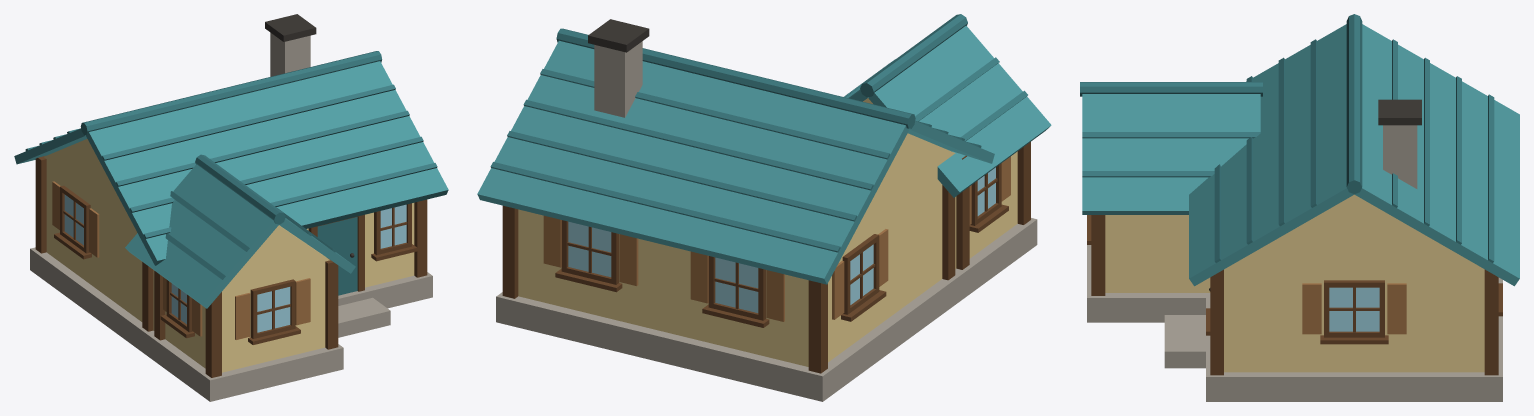
The model's file is house_2.glb.
3 views of the same model, side by side, from view 1: azimuth 30°, elevation 25°; view 2: azimuth 150°, elevation 25°; view 3: azimuth 270°, elevation 25° (orthographic). The views are drawn at different scales.
Parts seen in each view (by area): view 1: House_2; view 2: House_2; view 3: House_2.
Boxes of the visible parts, <box> form: House_2: <box>14,14,448,401</box>; House_2: <box>477,14,1051,401</box>; House_2: <box>1080,14,1519,401</box>.
Bounding box in the file's own units: 8.6 × 6.28 × 9.62.
